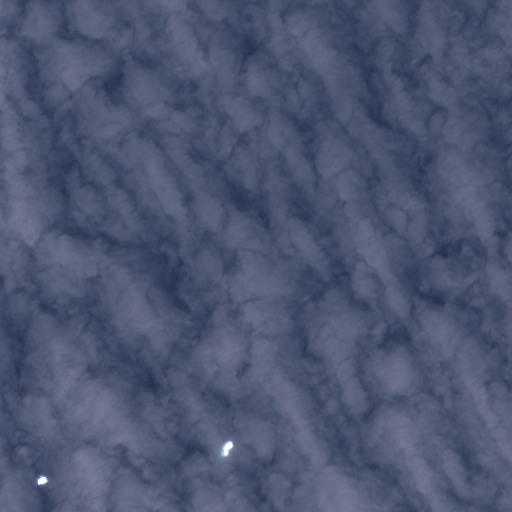Iceberg: (222, 441, 233, 455), (38, 477, 47, 484)
